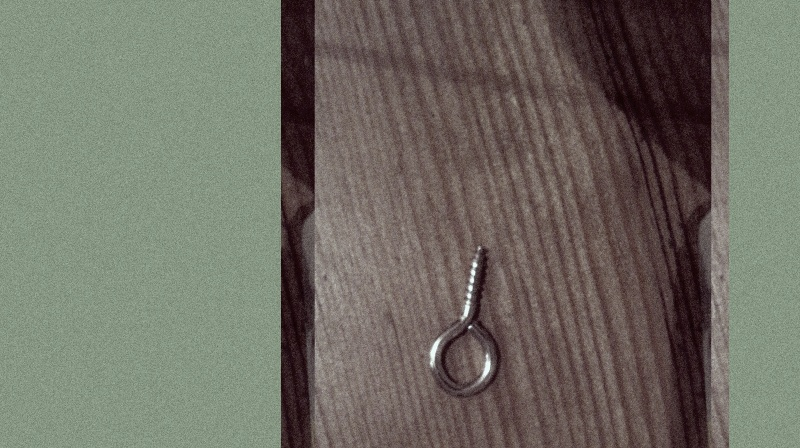O001: (427, 241, 503, 399)
